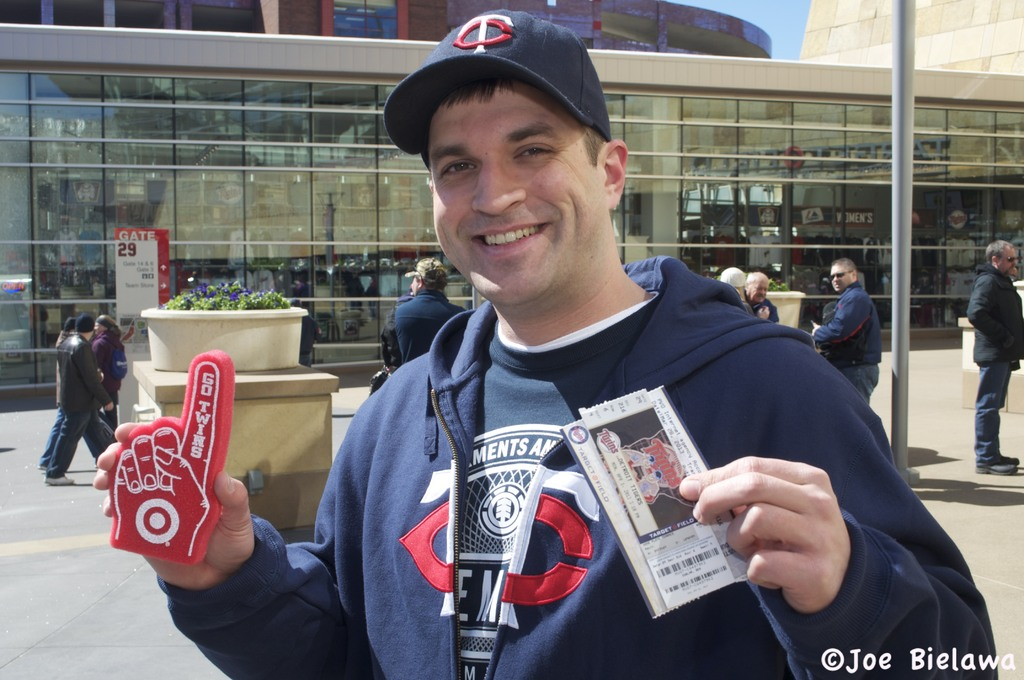Human_hand: (696, 443, 886, 617), (109, 350, 237, 569), (90, 420, 255, 588), (755, 303, 771, 321)
